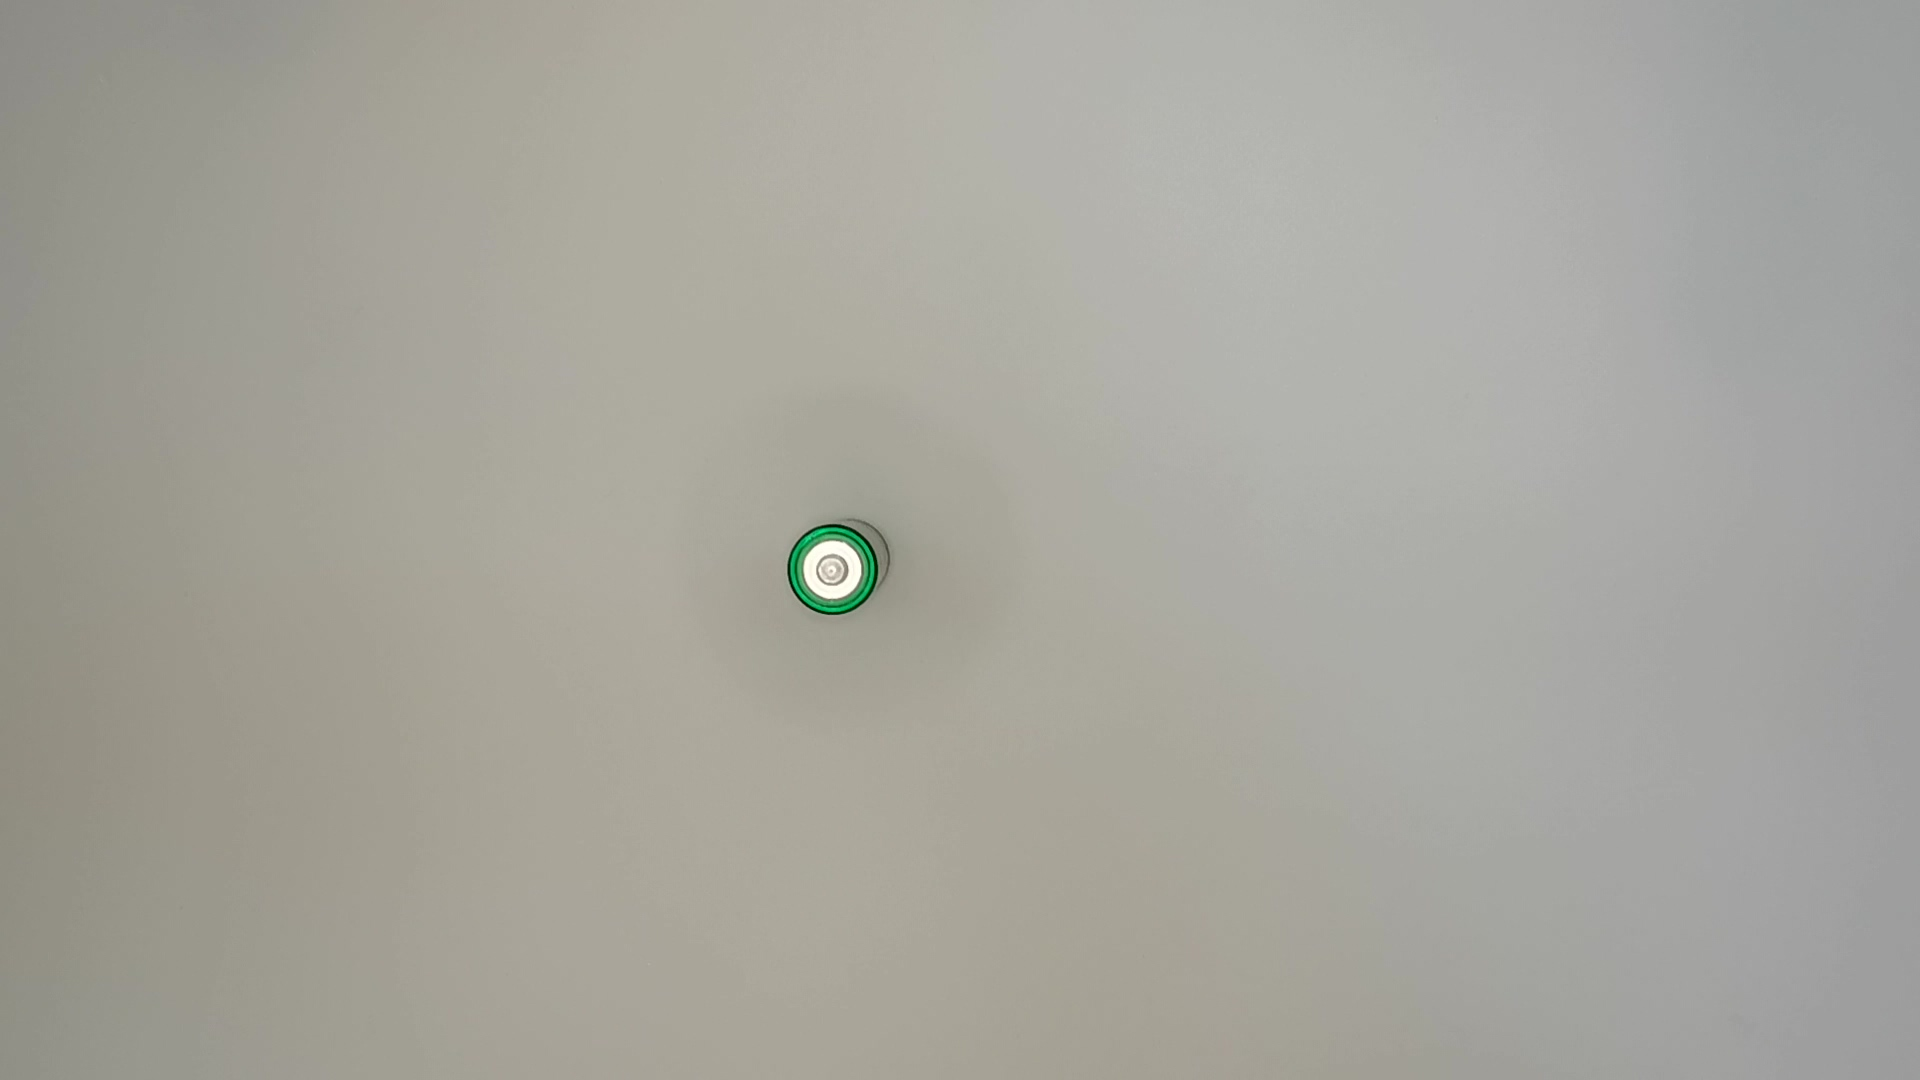battery: (786, 508, 893, 616)
